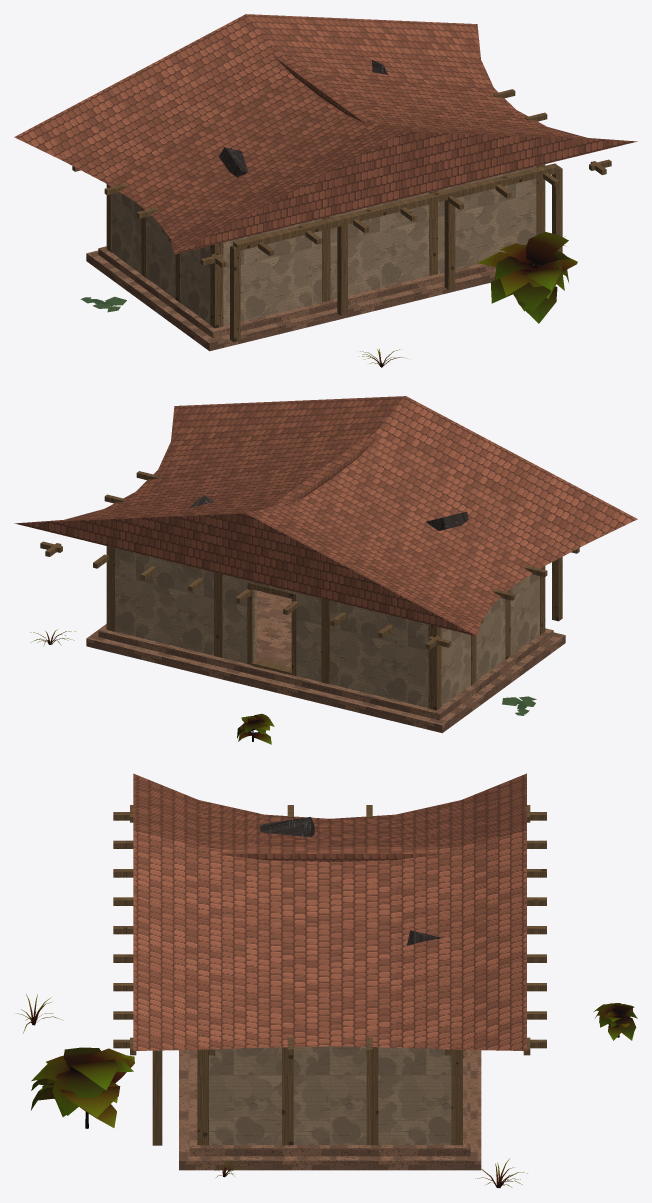
File: nha_ruong_02.glb
3 views of the same model, one above another, from view 1: azimuth 30°, elevation 25°; view 2: azimuth 150°, elevation 25°; view 3: azimuth 270°, elevation 25° (orthographic). The views are drawn at different scales.
Parts seen in each view (by area): view 1: nha_ruong_02, nha_ruong_02_veg_01_bush_c; view 2: nha_ruong_02, nha_ruong_02_veg_00_bush_a; view 3: nha_ruong_02, nha_ruong_02_veg_01_bush_c, nha_ruong_02_veg_00_bush_a.
Boxes of the visible parts, bbox=[...] form: nha_ruong_02: bbox=[14, 14, 637, 351]; nha_ruong_02_veg_01_bush_c: bbox=[477, 231, 577, 323]; nha_ruong_02: bbox=[14, 396, 637, 733]; nha_ruong_02_veg_00_bush_a: bbox=[237, 713, 274, 744]; nha_ruong_02: bbox=[113, 773, 546, 1170]; nha_ruong_02_veg_01_bush_c: bbox=[31, 1047, 134, 1128]; nha_ruong_02_veg_00_bush_a: bbox=[593, 1003, 637, 1040].
Bounding box in the file's own units: 12.27 × 4.81 × 11.66.
Materials: 11 (11 with a texture image).
